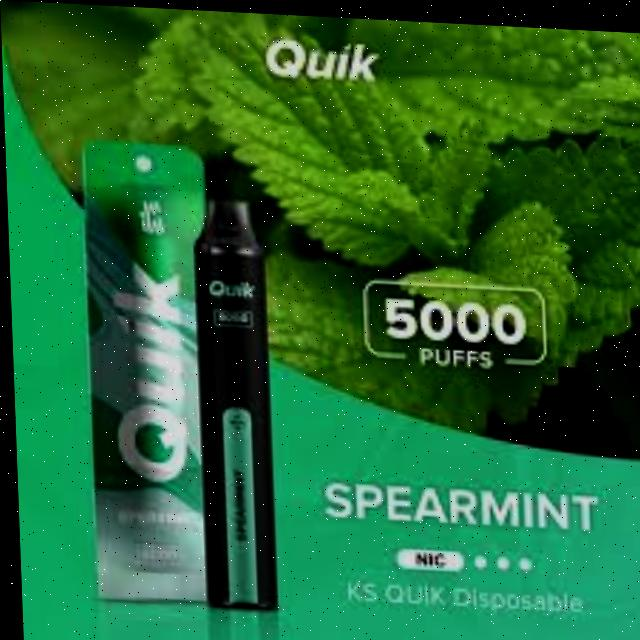vape: (193, 194, 276, 613)
